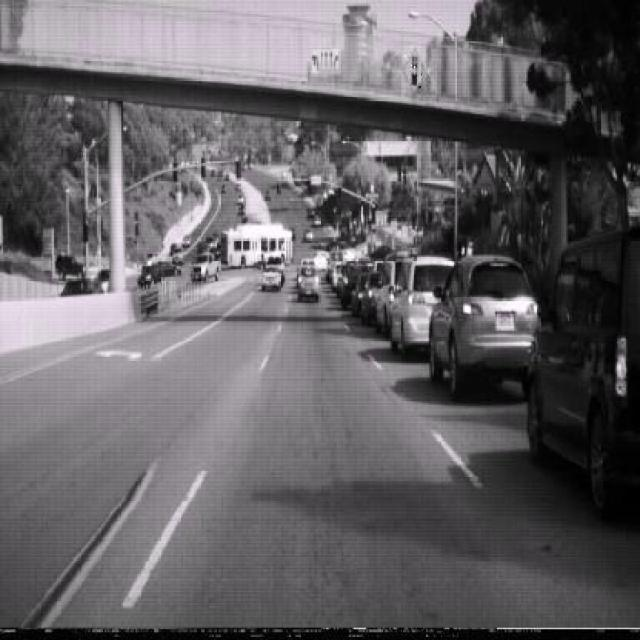signalAhead: (403, 46, 427, 94)
